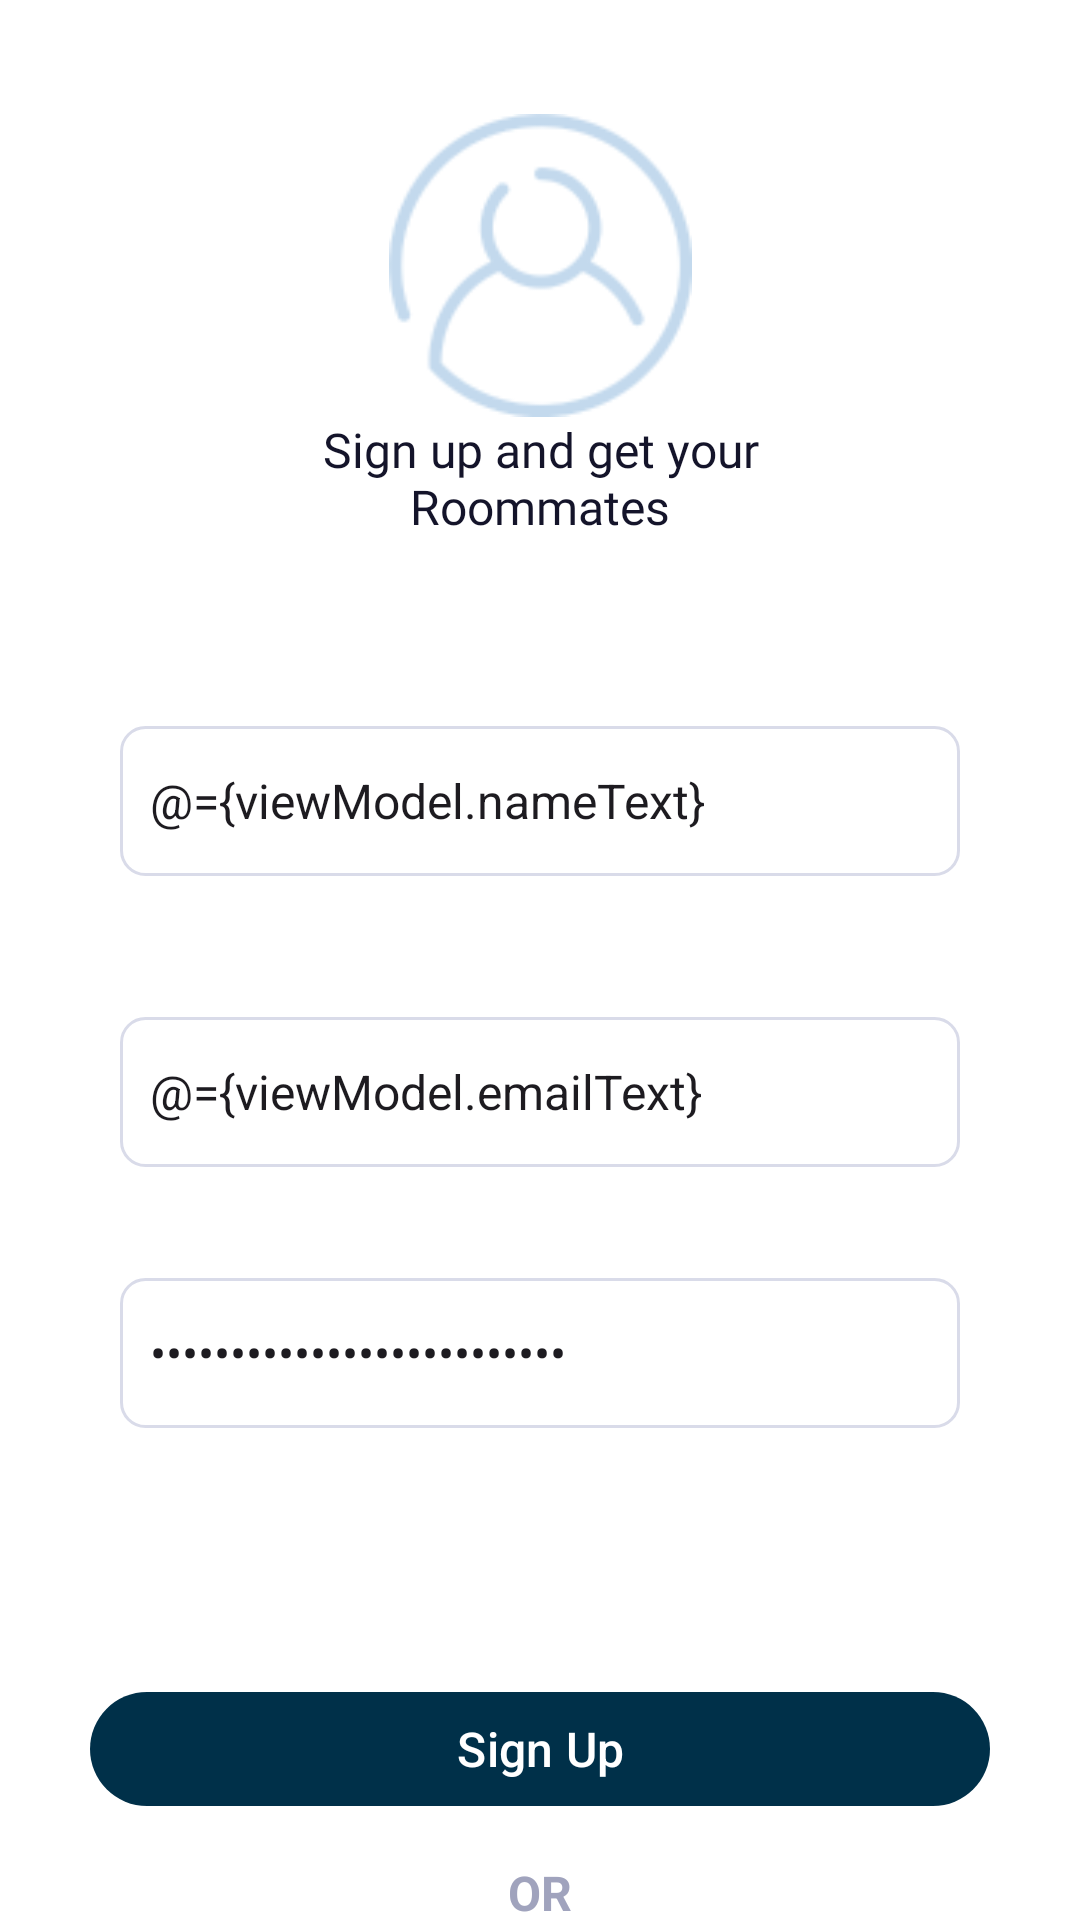

Icon bounding boxes for this 1080 × 1920 phone screenshot, format (x1, y1, x2, y2):
user: (389, 114, 692, 417)
